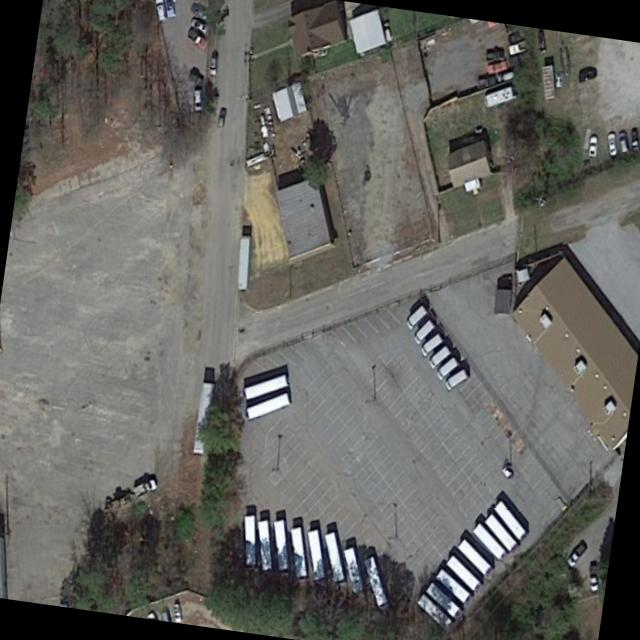large-vehicle: (190, 380, 213, 455), (363, 554, 388, 611), (433, 565, 470, 603), (491, 499, 525, 540), (443, 553, 479, 591), (456, 537, 491, 576), (415, 592, 450, 630), (424, 580, 459, 618), (483, 512, 516, 552), (244, 392, 287, 421), (321, 529, 344, 582), (472, 522, 504, 560), (243, 372, 286, 399), (341, 545, 362, 595), (306, 527, 325, 580), (288, 525, 305, 579), (272, 518, 288, 569), (256, 518, 271, 569), (243, 513, 255, 566), (237, 235, 248, 291)
small-vehicle: (433, 350, 461, 380), (442, 365, 469, 392), (411, 317, 436, 345), (418, 331, 443, 357), (426, 343, 450, 370), (403, 302, 426, 330), (565, 539, 588, 567), (131, 476, 155, 497), (184, 27, 206, 48), (587, 560, 599, 593), (183, 70, 203, 88), (474, 73, 495, 90), (188, 16, 207, 33), (487, 59, 507, 75), (493, 68, 514, 83), (577, 67, 595, 84), (585, 135, 598, 158), (616, 131, 628, 155), (605, 132, 617, 156), (189, 5, 208, 20), (191, 88, 202, 111), (153, 0, 165, 21), (170, 602, 181, 623), (215, 107, 226, 128), (629, 128, 639, 151), (163, 0, 175, 18), (207, 57, 215, 78)
